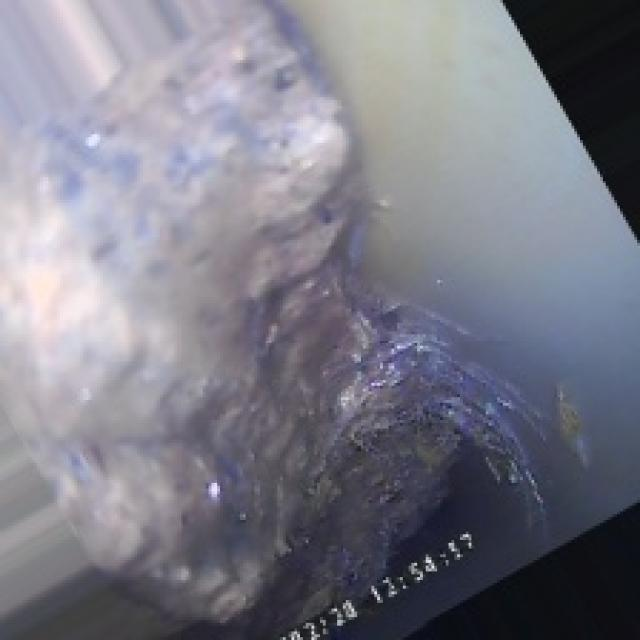sluge accumulation: (66, 71, 511, 506)
